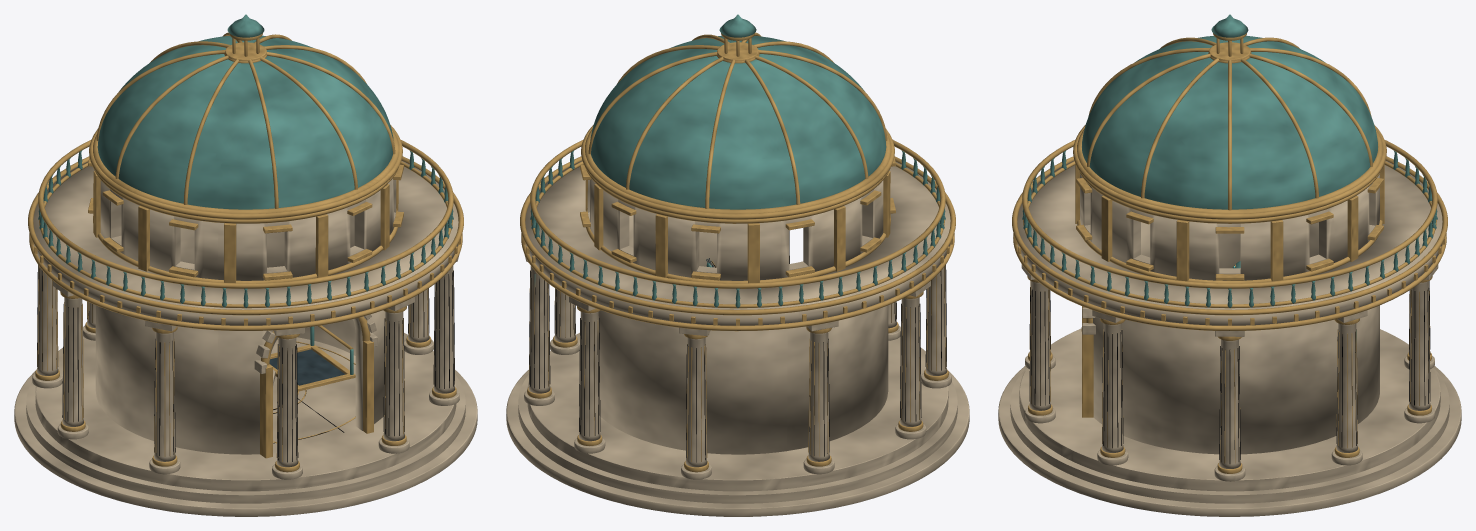
The model's file is lynx-temple-medium-C_e3V2A5.glb.
3 views of the same model, side by side, from view 1: azimuth 30°, elevation 25°; view 2: azimuth 150°, elevation 25°; view 3: azimuth 270°, elevation 25° (orthographic).
Visible parts, largest first — view 1: TempleVisual.001; view 2: TempleVisual.001; view 3: TempleVisual.001.
Boxes of the visible parts, x1,y1,x2,y2 form: TempleVisual.001: [14, 14, 477, 516]; TempleVisual.001: [506, 14, 969, 516]; TempleVisual.001: [998, 14, 1461, 516].
Bounding box in the file's own units: 10.8 × 11.6 × 10.8.
6 materials, 6 textured.
